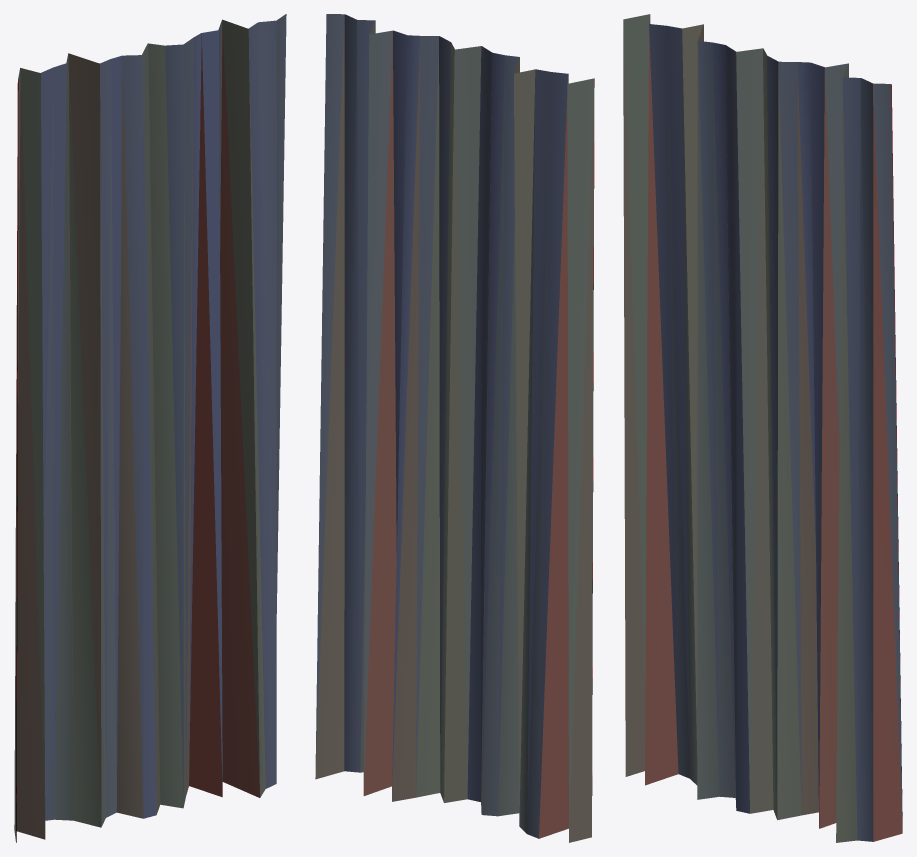
The model's file is curtain1b.FBX.
3 renders of one model, left to right at view 1: azimuth 30°, elevation 25°; view 2: azimuth 150°, elevation 25°; view 3: azimuth 330°, elevation 25°, orthographic.
Visible parts, largest first — view 1: curtain1b; view 2: curtain1b; view 3: curtain1b.
Part boxes in pixels (bbox=[...]): curtain1b: bbox=[14, 14, 286, 842]; curtain1b: bbox=[315, 14, 594, 842]; curtain1b: bbox=[623, 14, 902, 842].
Size of the model in its own units: 92.12 by 250 by 19.07.
